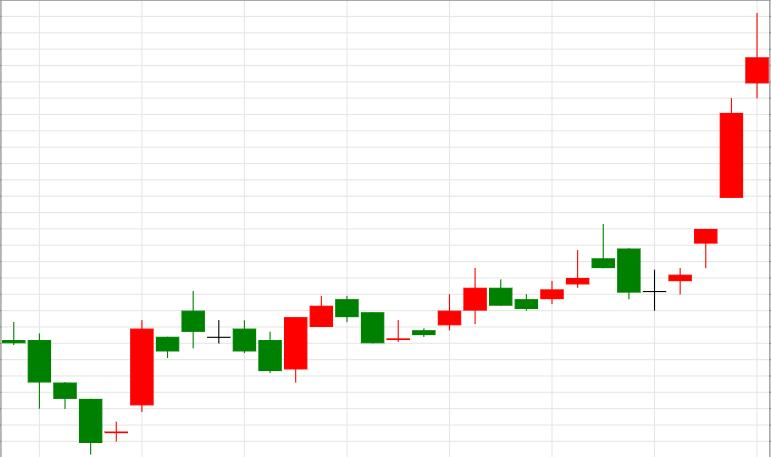bullish_engulfing_rise: (182, 291, 308, 384)
shooting_star_fall: (643, 14, 771, 311)
